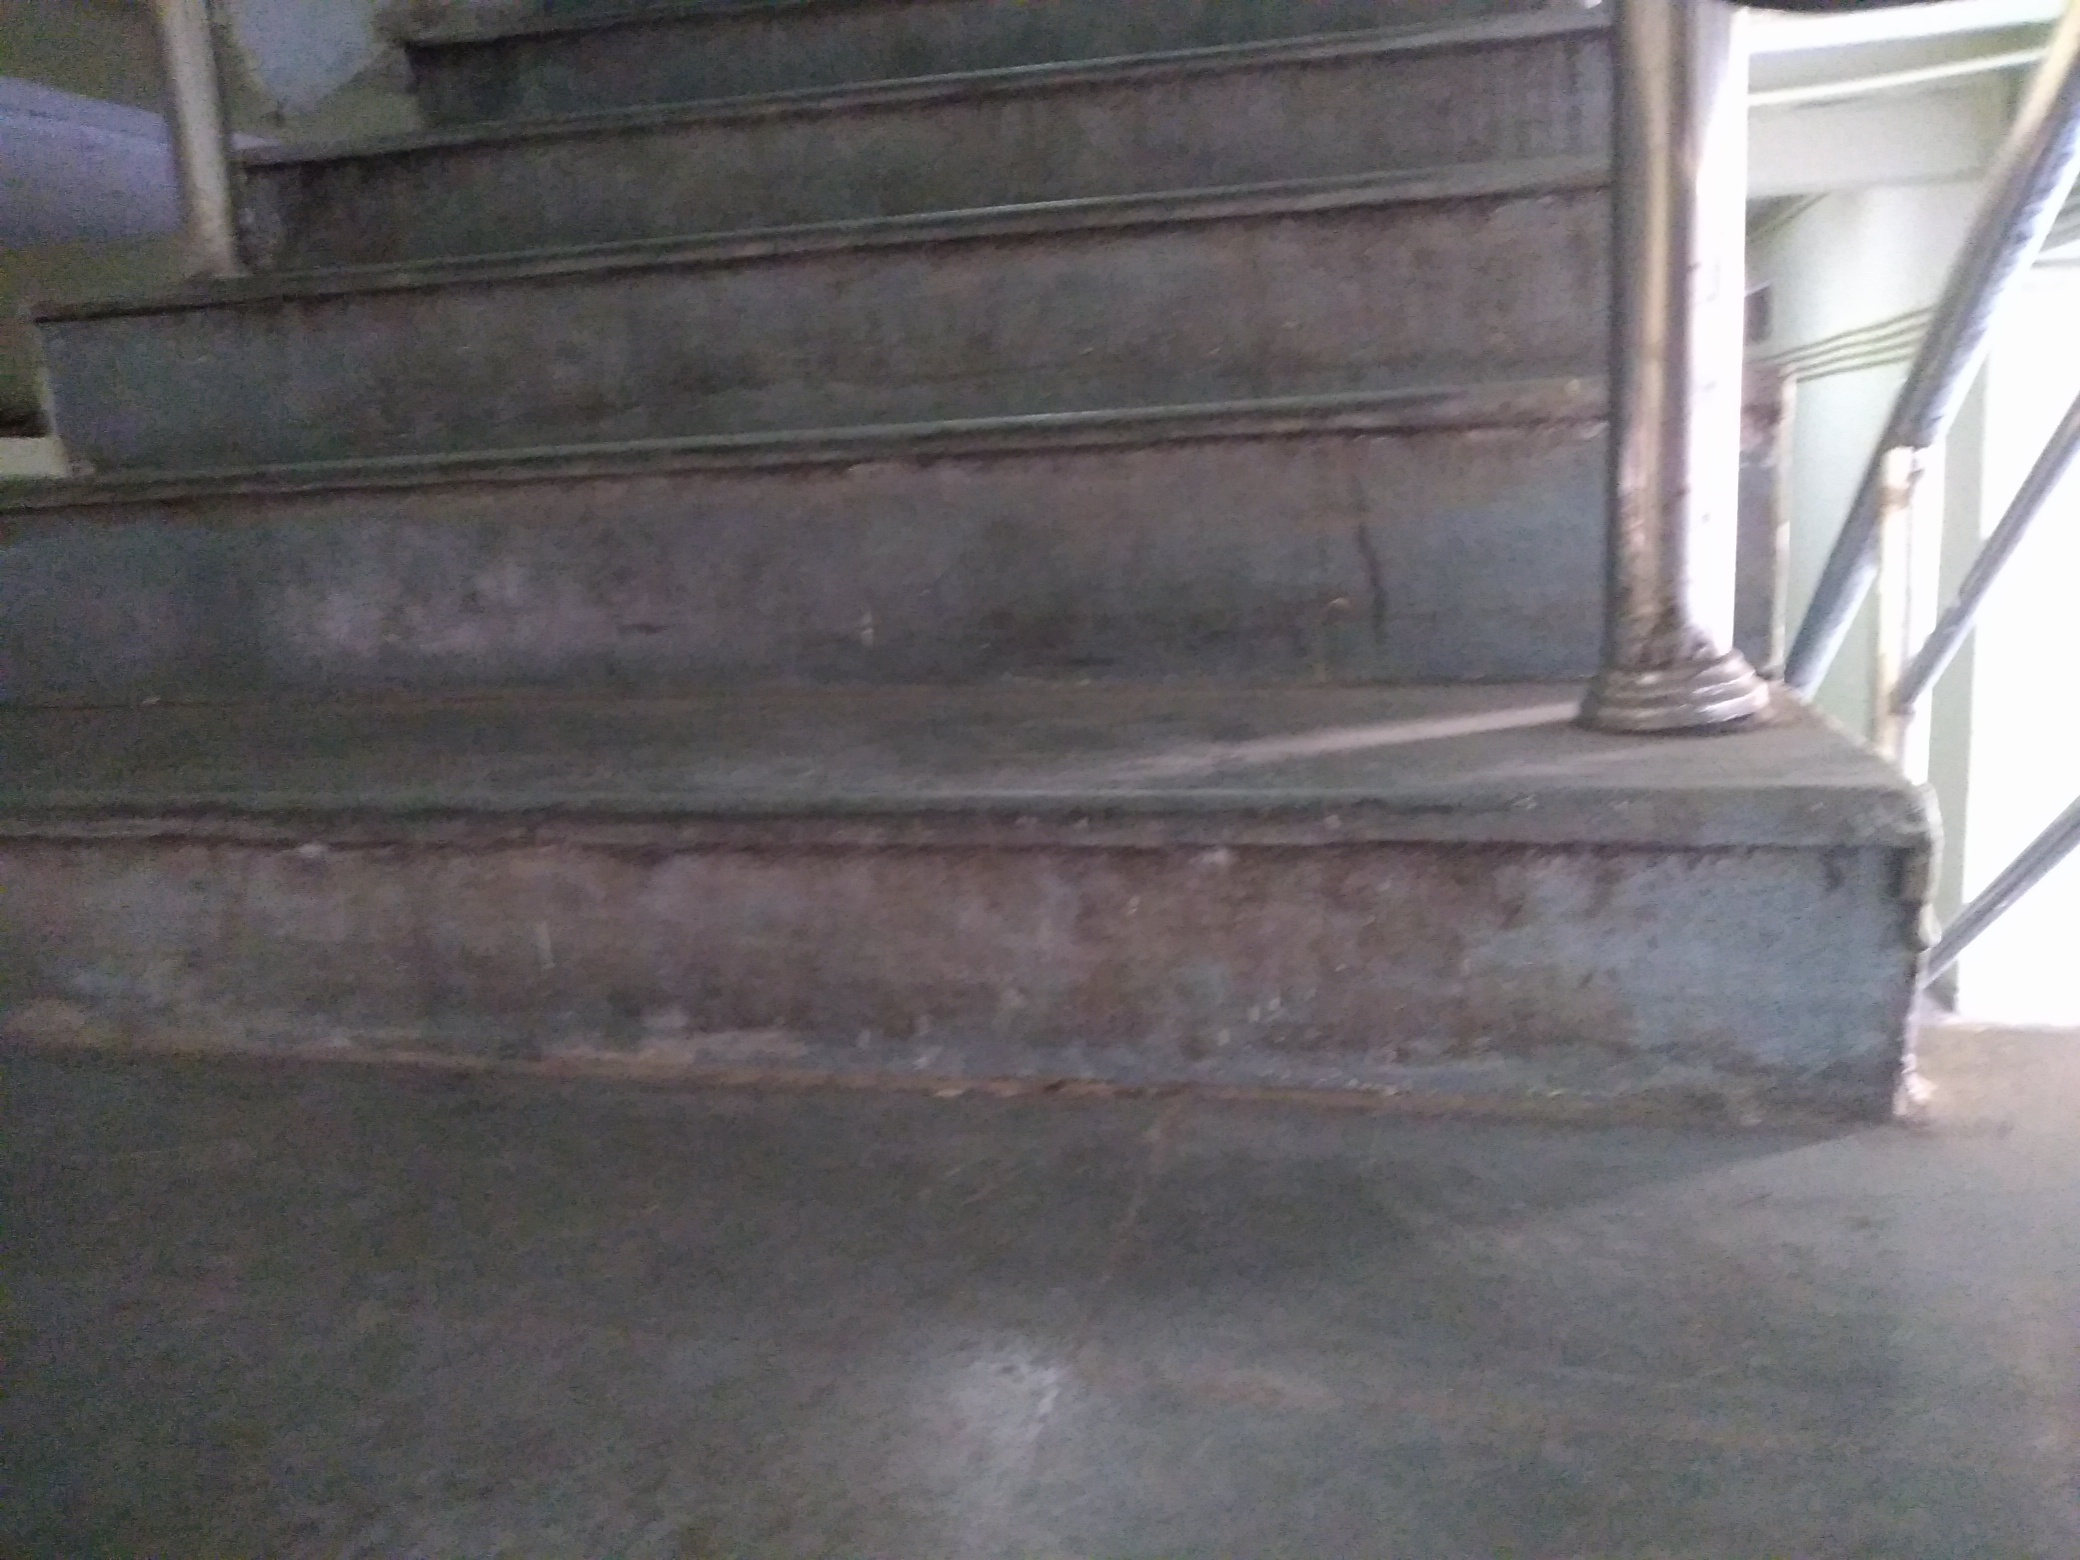stairs_up: (69, 61, 1730, 1103)
